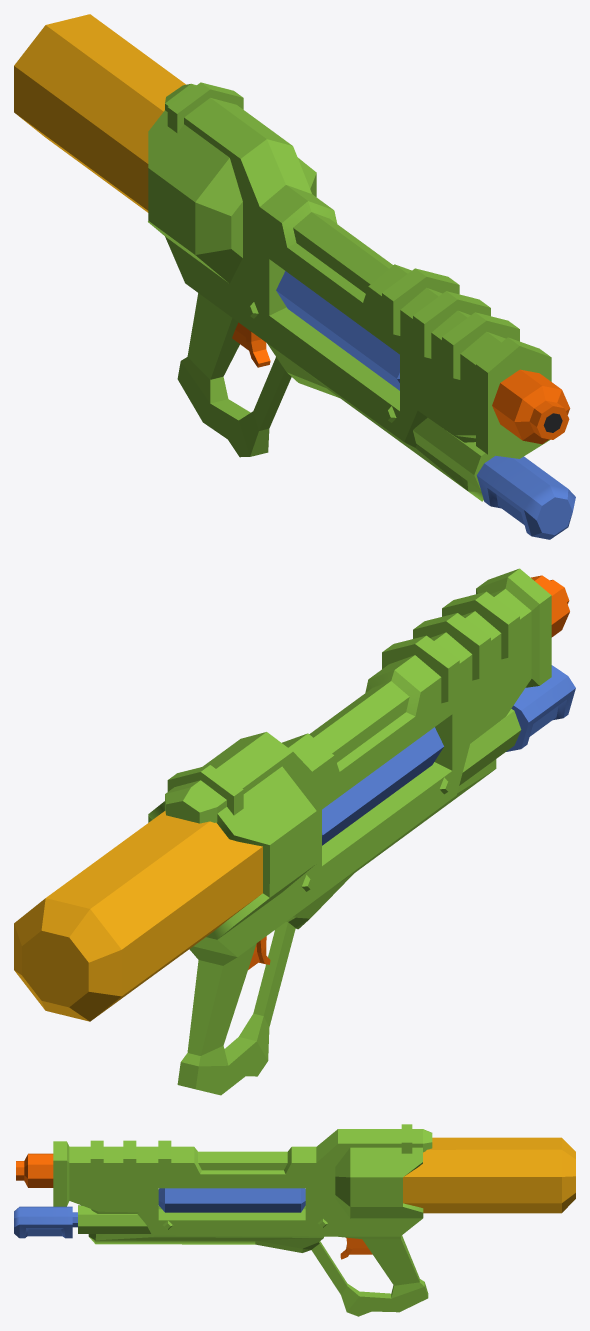
Rendered from SM_Wep_Watergun_02.fbx.
3 views of the same model, one above another, from view 1: azimuth 30°, elevation 25°; view 2: azimuth 150°, elevation 25°; view 3: azimuth 270°, elevation 25° (orthographic). The views are drawn at different scales.
Parts seen in each view (by area): view 1: SM_Wep_Watergun_02, Watergun_02_Refill, Watergun_02_Pump, Watergun_02_Trigger; view 2: SM_Wep_Watergun_02, Watergun_02_Refill, Watergun_02_Pump; view 3: SM_Wep_Watergun_02, Watergun_02_Refill, Watergun_02_Pump, Watergun_02_Trigger.
Part boxes in pixels (bbox=[...]): SM_Wep_Watergun_02: bbox=[148, 82, 570, 501]; Watergun_02_Refill: bbox=[14, 14, 185, 212]; Watergun_02_Pump: bbox=[476, 455, 575, 539]; Watergun_02_Trigger: bbox=[232, 322, 270, 367]; SM_Wep_Watergun_02: bbox=[148, 568, 569, 1095]; Watergun_02_Refill: bbox=[14, 811, 262, 1021]; Watergun_02_Pump: bbox=[506, 665, 575, 751]; SM_Wep_Watergun_02: bbox=[16, 1124, 432, 1316]; Watergun_02_Refill: bbox=[403, 1137, 575, 1213]; Watergun_02_Pump: bbox=[14, 1206, 77, 1238]; Watergun_02_Trigger: bbox=[340, 1237, 372, 1259].
Bounding box in the file's own units: 12.31 × 32.65 × 87.59.
Materials: 1 (1 with a texture image).
